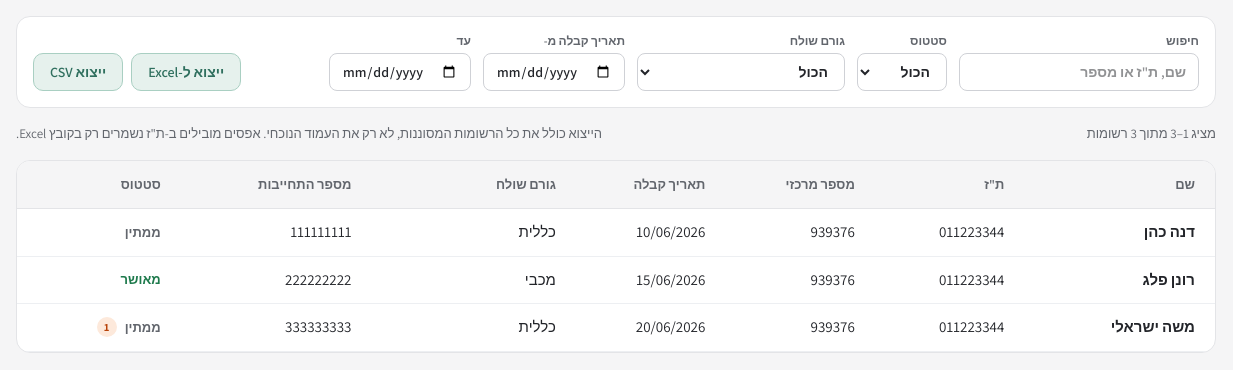
Test: RecordsView: filters › searching also finds by ID and by commitment number
expect the message does not show "טוען": met, box [1087,124,1216,144]
In the search field named "חיפוש רשומות": (1079, 72) [959,53,1199,91], type "333333333"
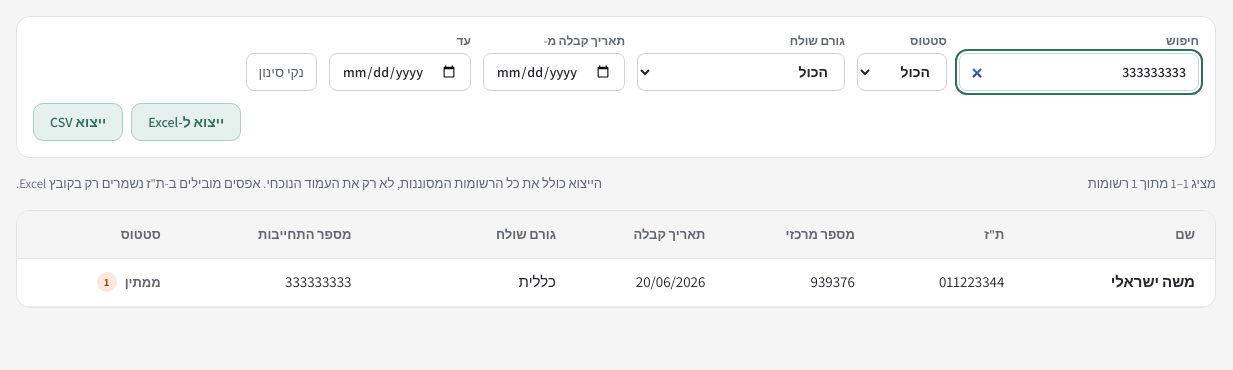
expect the button "משה ישראלי" is shown: met, box [17,259,1215,306]
expect the message shows "מתוך 1 רשומות": met, box [1088,175,1216,192]
